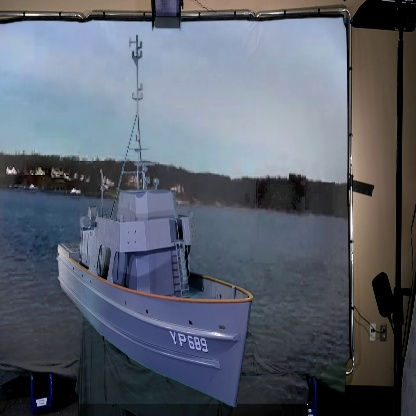YP689: (55, 33, 262, 411)
